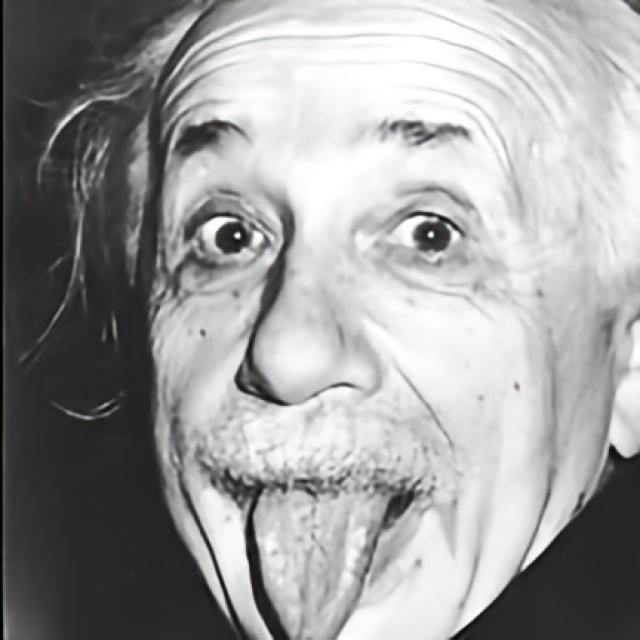surprise: (148, 0, 610, 640)
